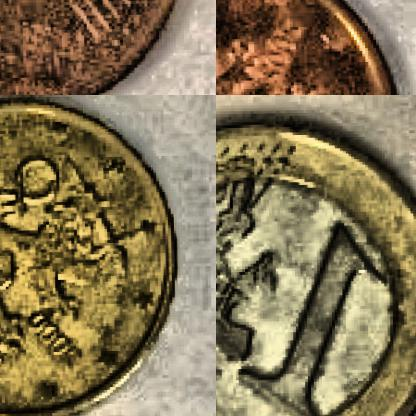coin: (0, 96, 187, 415), (216, 117, 415, 415), (0, 0, 189, 94), (216, 0, 402, 94)
